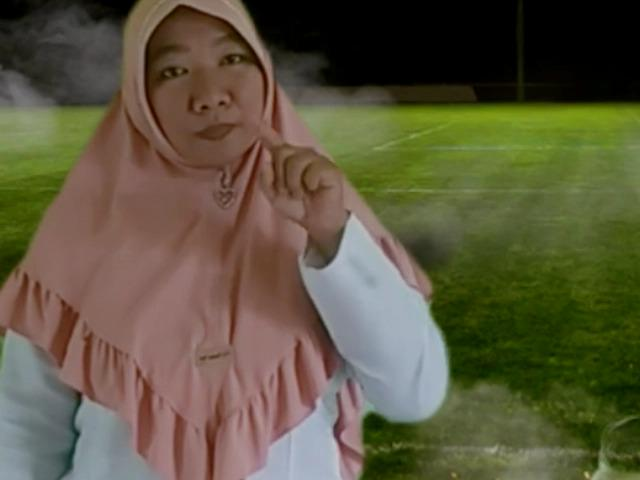Z: (245, 114, 351, 224)
